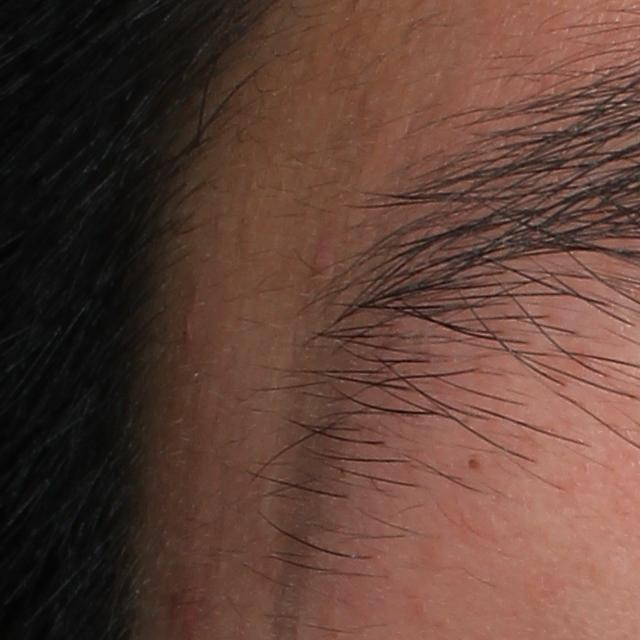nevus: (466, 457, 483, 471)
papule: (306, 239, 335, 281), (179, 308, 203, 356)
